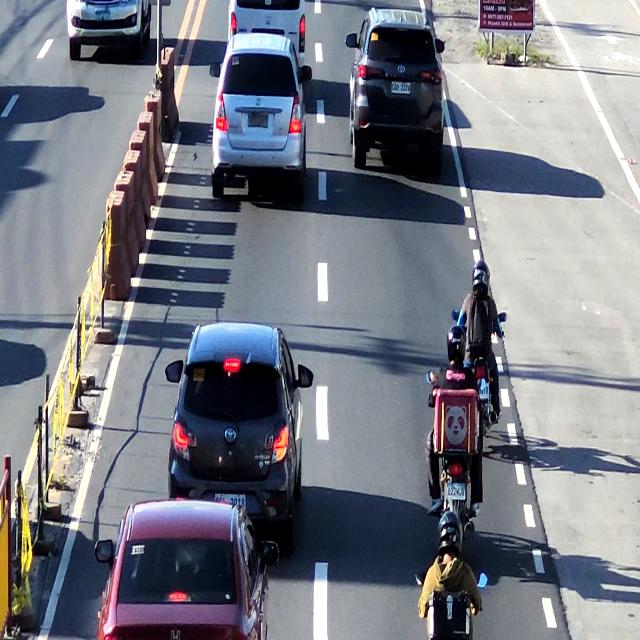Car: (165, 316, 302, 500), (96, 500, 269, 640), (351, 11, 447, 167), (212, 36, 302, 195), (229, 0, 306, 35)
License-Plate: (443, 478, 470, 503), (246, 108, 271, 130), (214, 489, 247, 504), (391, 77, 412, 100)
Motorcycle: (422, 332, 488, 508), (452, 249, 503, 423), (424, 512, 484, 640)
